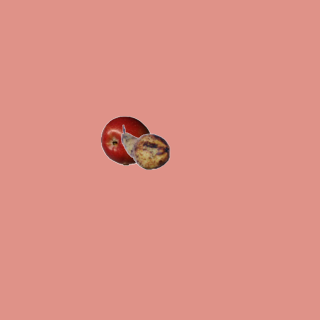Apple Braeburn: (100, 115, 150, 165)
Pear Abate: (120, 122, 170, 172)
